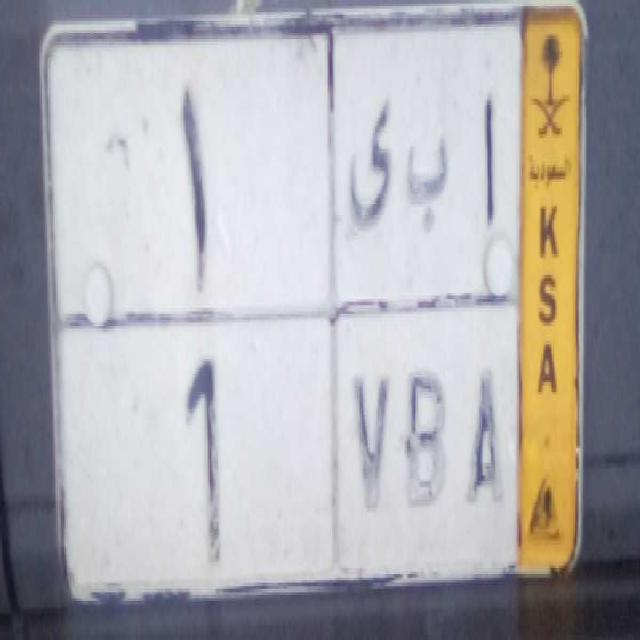license_plate: (51, 306, 522, 590)
